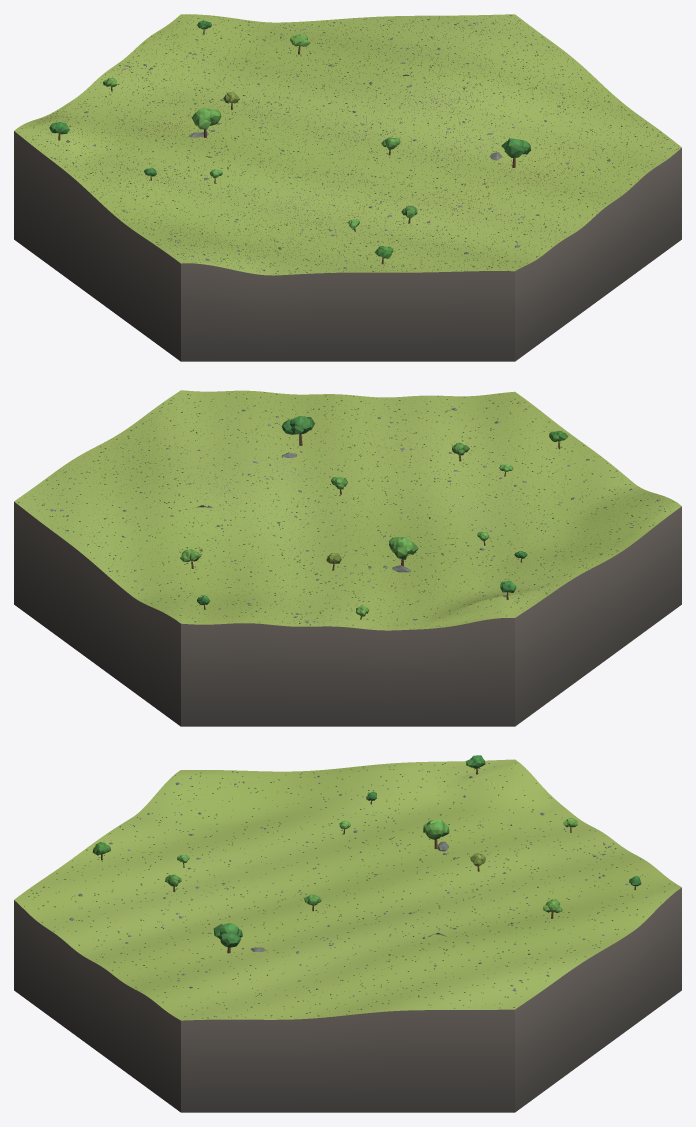
3 views of the same model, one above another, from view 1: azimuth 30°, elevation 25°; view 2: azimuth 150°, elevation 25°; view 3: azimuth 270°, elevation 25° (orthographic).
Parts seen in each view (by area): view 1: terrain, hex_side_cut, wildflowers, shrubs, broadleaf_canopy, boulders; view 2: terrain, hex_side_cut, wildflowers, shrubs, broadleaf_canopy, boulders; view 3: terrain, hex_side_cut, shrubs, broadleaf_canopy, boulders.
Part boxes in pixels (x1=…): terrain: x1=14, y1=14, x2=681, y2=275; hex_side_cut: x1=14, y1=131, x2=681, y2=361; wildflowers: x1=19, y1=15, x2=678, y2=274; shrubs: x1=21, y1=15, x2=671, y2=273; broadleaf_canopy: x1=49, y1=20, x2=530, y2=258; boulders: x1=66, y1=19, x2=644, y2=270; terrain: x1=14, y1=390, x2=681, y2=630; hex_side_cut: x1=14, y1=502, x2=681, y2=726; wildflowers: x1=22, y1=391, x2=672, y2=628; shrubs: x1=18, y1=391, x2=673, y2=626; broadleaf_canopy: x1=180, y1=416, x2=568, y2=616; boulders: x1=50, y1=401, x2=661, y2=624; terrain: x1=14, y1=759, x2=681, y2=1020; hex_side_cut: x1=14, y1=887, x2=681, y2=1112; shrubs: x1=24, y1=762, x2=674, y2=1018; broadleaf_canopy: x1=92, y1=755, x2=641, y2=947; boulders: x1=43, y1=775, x2=651, y2=1012.
Size of the model in its own units: 4330 by 1027 by 5000.
